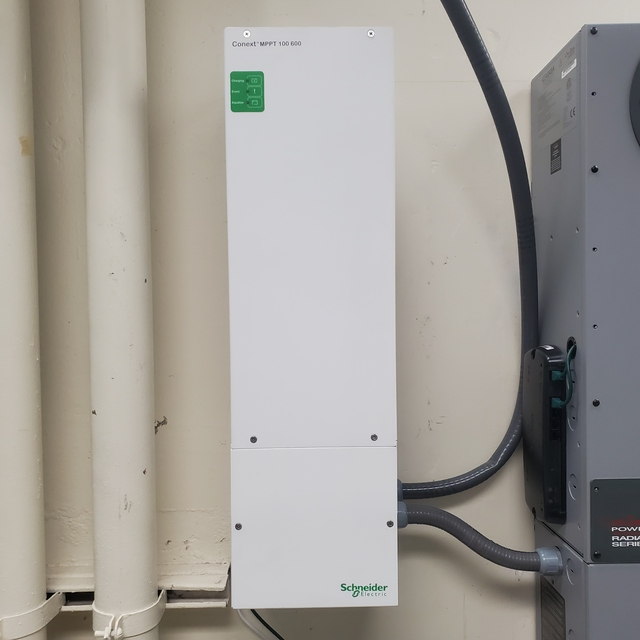charge_controller: (223, 24, 402, 609)
